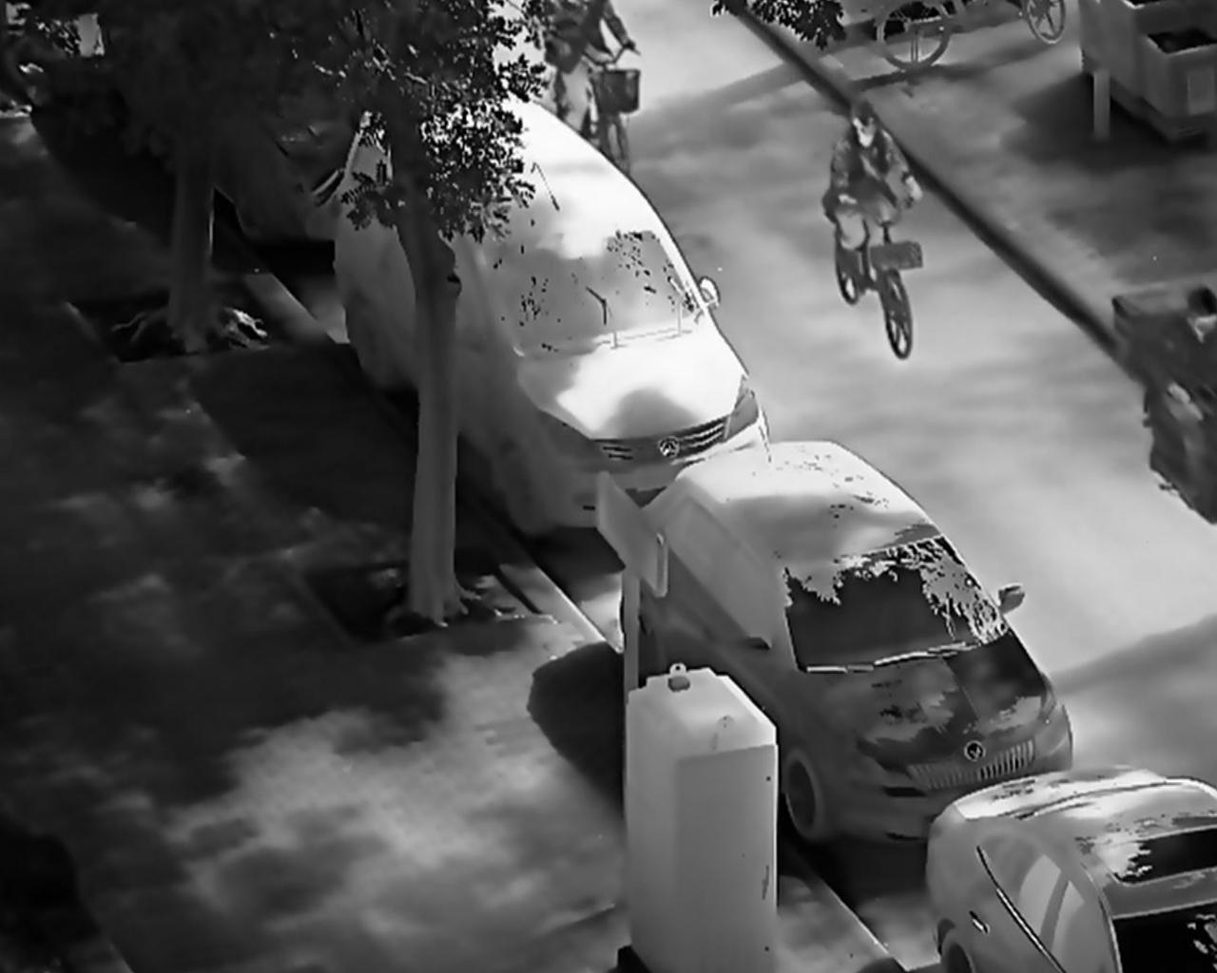person: (823, 99, 921, 302)
